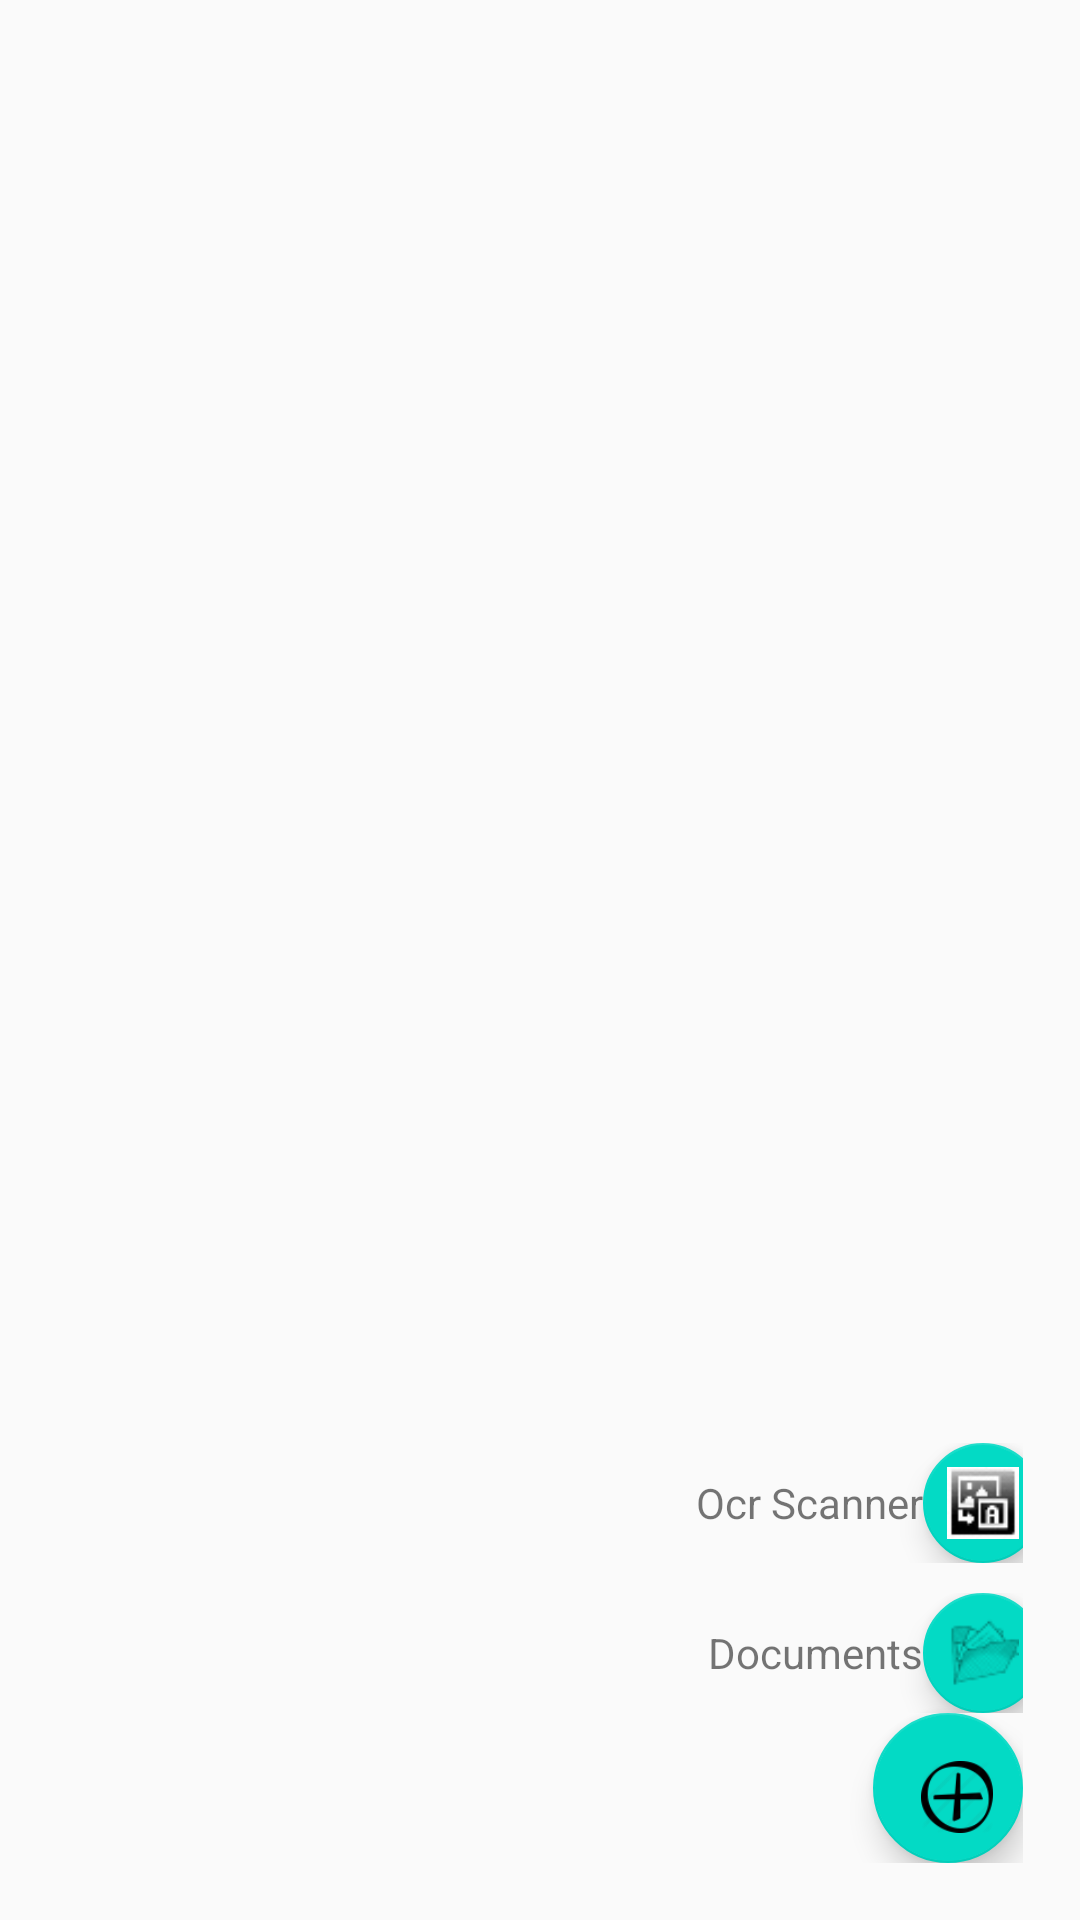

Named icons in this screenshot (1080*1920) and their centers, point (x, y):
add: point (948, 1788)
